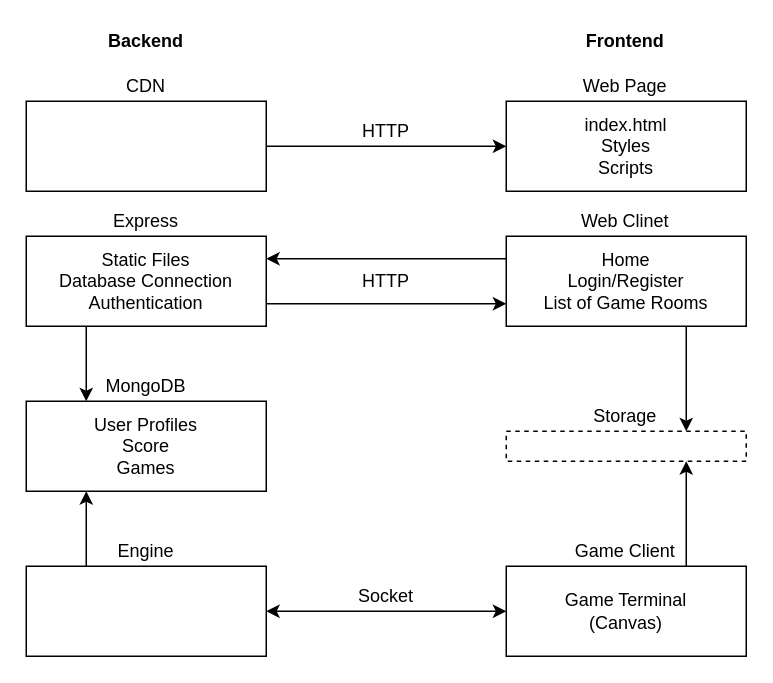
This 773x683 diagram has some shape labels left out. The shapes that lost their labels are listed below. From the top down, each one's centre as x and y in pixels, then its label:
[145,145]: Static Files
[625,445]: User Session
[145,610]: Game Logic
